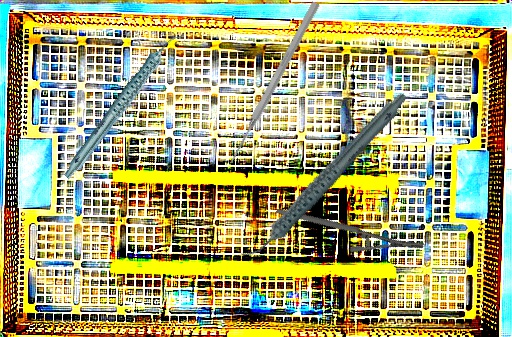Handpiece: (213, 90, 435, 263), (38, 30, 208, 181)
Needle Holder: (275, 165, 426, 291)
Pusher: (225, 0, 322, 166)
